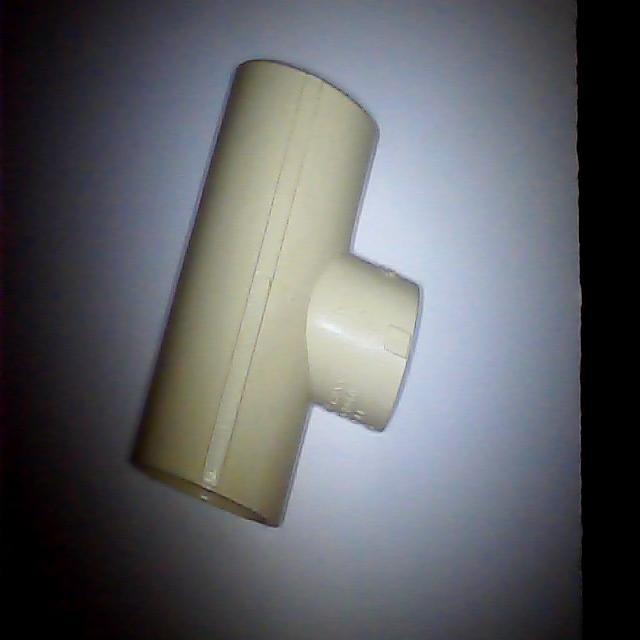T Joint: (112, 56, 420, 524), (127, 60, 423, 530)
